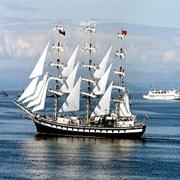fanchuan: (6, 22, 141, 136)
otherboat: (142, 84, 180, 103)
